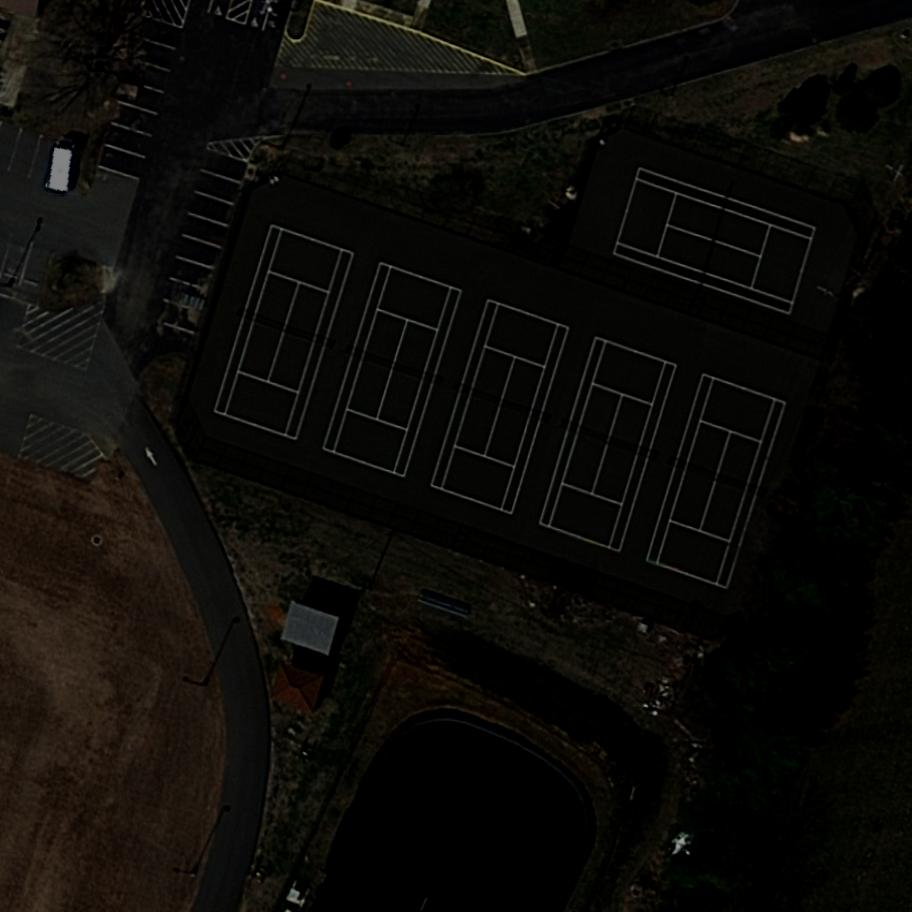large-vehicle: (47, 136, 81, 195)
